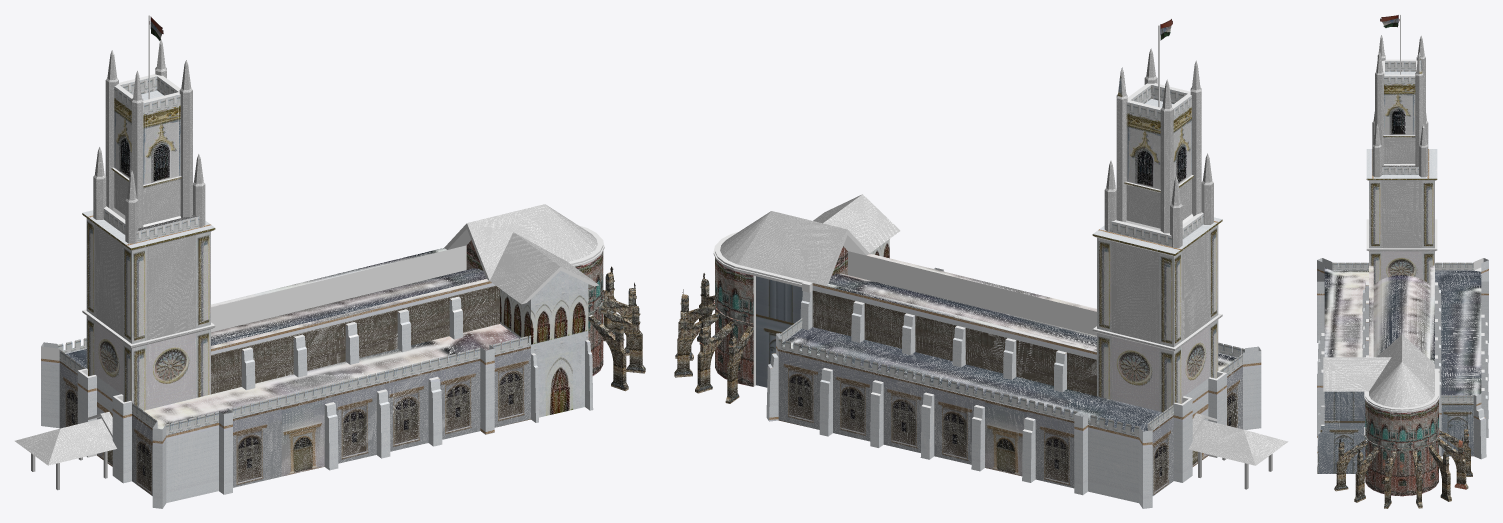
Rendered from Cathedral_mumbai.dae.
3 views of the same model, side by side, from view 1: azimuth 30°, elevation 25°; view 2: azimuth 150°, elevation 25°; view 3: azimuth 270°, elevation 25° (orthographic). The views are drawn at different scales.
Visible parts, largest first — view 1: group_0 (×43); view 2: group_0 (×51); view 3: group_0 (×46).
Boxes of the visible parts, box(x1,y1,x2,y2) form: group_0 (×43): box(15, 50, 645, 508); group_0 (×51): box(674, 80, 1288, 508); group_0 (×46): box(1317, 56, 1488, 508).
Bounding box in the file's own units: 3023 × 1038 × 2164.
